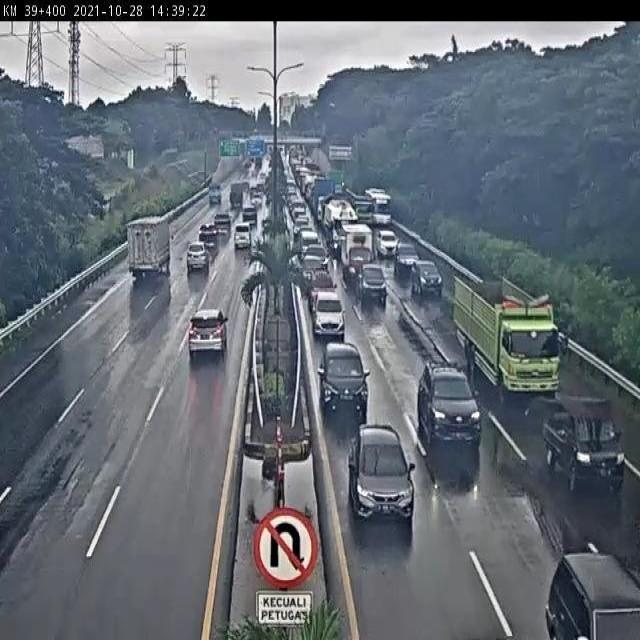Bus: (364, 186, 394, 228)
Car: (546, 552, 640, 640), (348, 424, 416, 536), (419, 364, 483, 450), (317, 339, 371, 417), (188, 309, 230, 361), (310, 292, 348, 340), (354, 264, 387, 308), (410, 259, 443, 298), (396, 241, 424, 276), (375, 226, 399, 262), (185, 243, 208, 276), (304, 242, 330, 270), (233, 223, 253, 249), (199, 220, 219, 243), (215, 211, 231, 234)
Truck: (454, 270, 562, 404), (542, 393, 629, 491), (127, 215, 174, 280), (340, 223, 374, 284), (325, 198, 358, 250)
